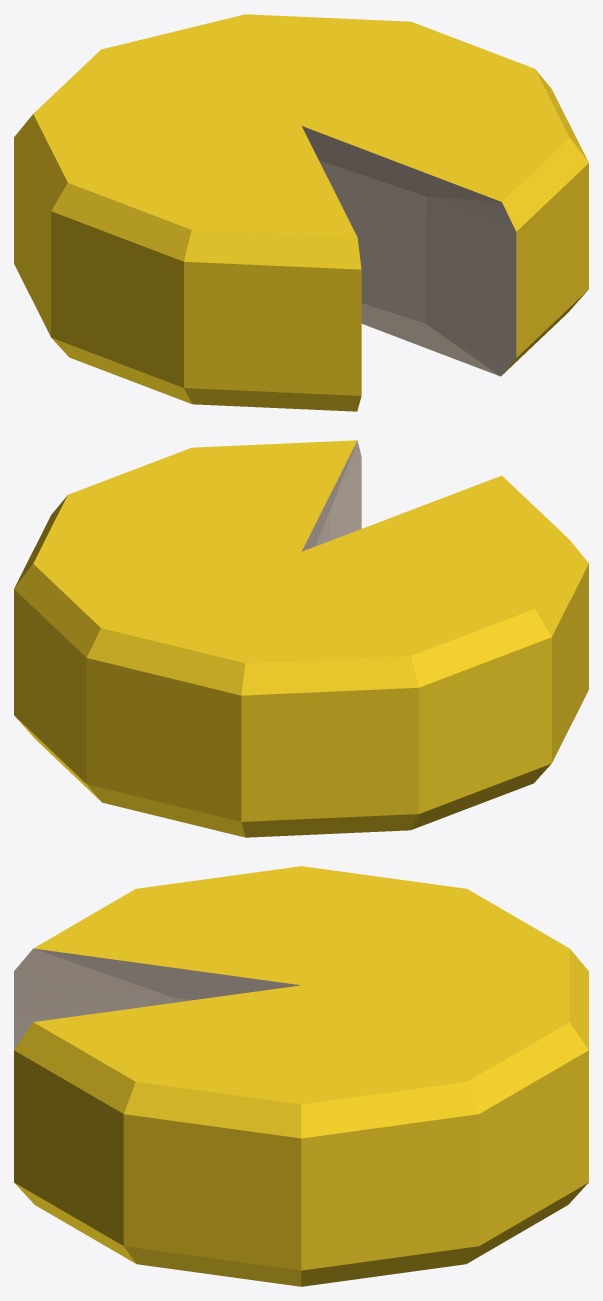
Rendered from food_cheese-circle.fbx.
The picture shows the model from 3 angles, top to bottom: view 1: azimuth 30°, elevation 25°; view 2: azimuth 150°, elevation 25°; view 3: azimuth 270°, elevation 25°; orthographic projection. The views are drawn at different scales.
Visible parts, largest first — view 1: food_cheese_circle; view 2: food_cheese_circle; view 3: food_cheese_circle.
Part boxes in pixels (box(x1,y1,x2,y2)): food_cheese_circle: box(14, 14, 588, 411); food_cheese_circle: box(14, 440, 588, 837); food_cheese_circle: box(14, 866, 588, 1286).
Size of the model in its own units: 200 by 66.79 by 190.
